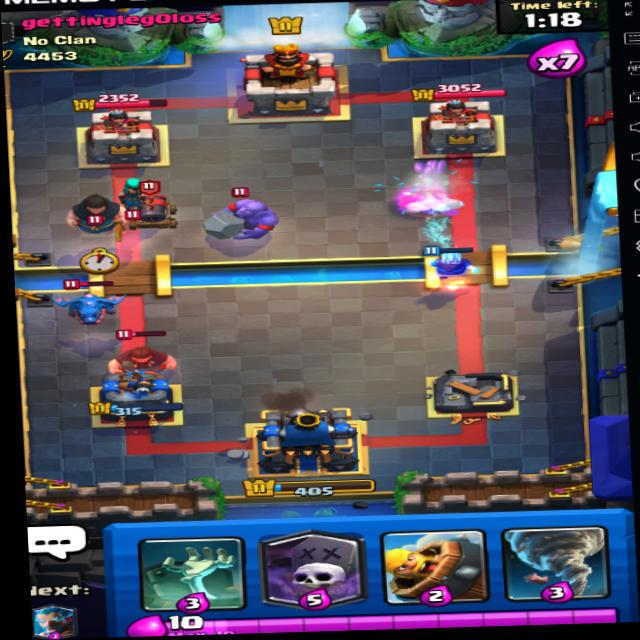bowler: (200, 179, 292, 245)
cannon-cart: (123, 175, 184, 229)
electro-dragon: (54, 275, 127, 333)
rascal-boy: (52, 186, 126, 240), (106, 336, 185, 377)
rascal-girl: (115, 177, 160, 214)
